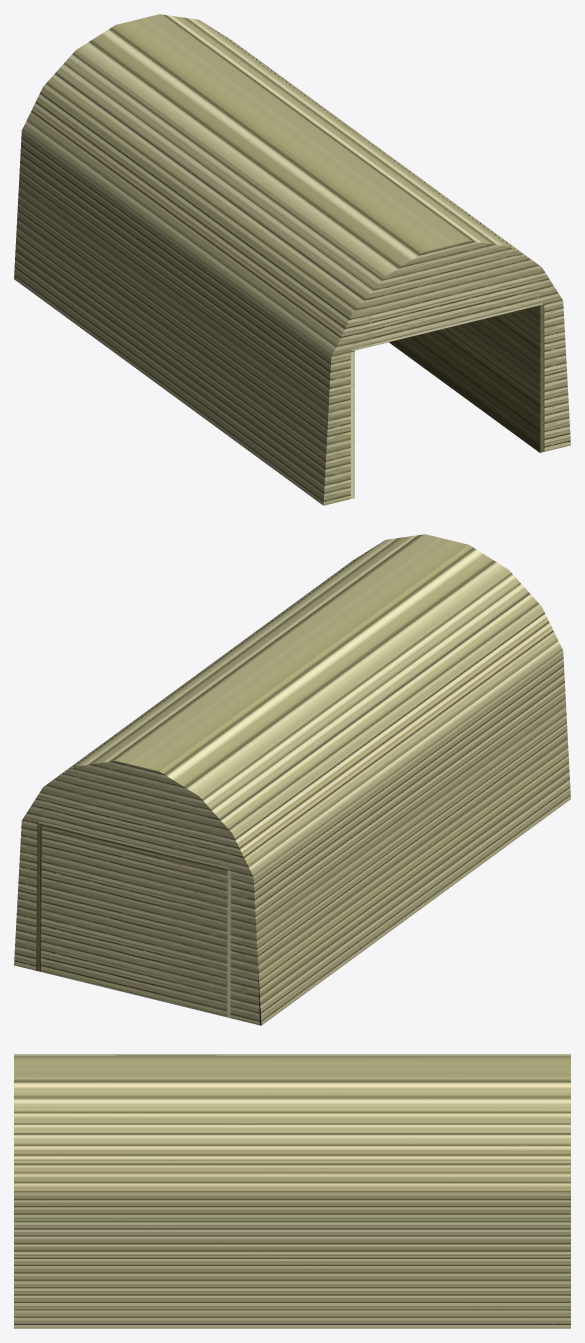
File: Hanger.glb
The picture shows the model from 3 angles, top to bottom: view 1: azimuth 30°, elevation 25°; view 2: azimuth 150°, elevation 25°; view 3: azimuth 270°, elevation 25°; orthographic projection. The views are drawn at different scales.
Parts seen in each view (by area): view 1: Hanger; view 2: Hanger; view 3: Hanger.
Boxes of the visible parts, left/top/right/bottom form: Hanger: left=14, top=14, right=570, bottom=505; Hanger: left=14, top=534, right=570, bottom=1025; Hanger: left=14, top=1054, right=570, bottom=1328.
Size of the model in its own units: 195 by 173 by 423.
Materials: 1 (1 with a texture image).
